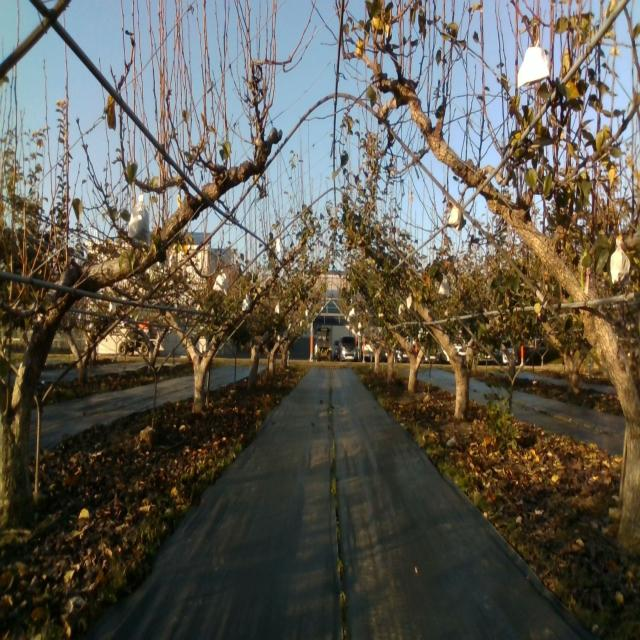pearbags: (517, 42, 550, 88), (128, 195, 149, 245), (610, 245, 630, 283), (212, 269, 228, 297), (448, 204, 462, 231), (438, 277, 450, 297)
